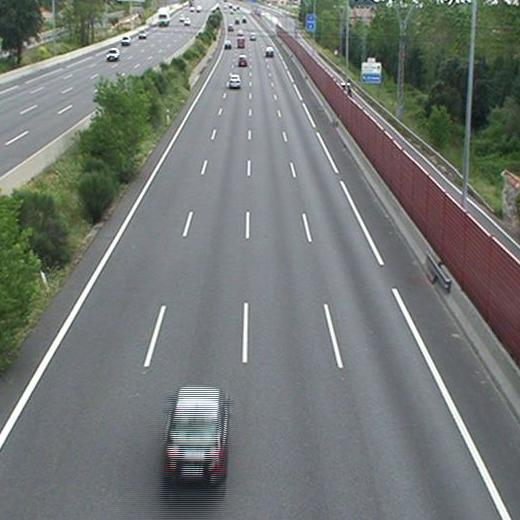car: (165, 388, 226, 476), (229, 74, 240, 87), (237, 55, 248, 66), (265, 47, 274, 56)
van: (237, 37, 245, 49)
